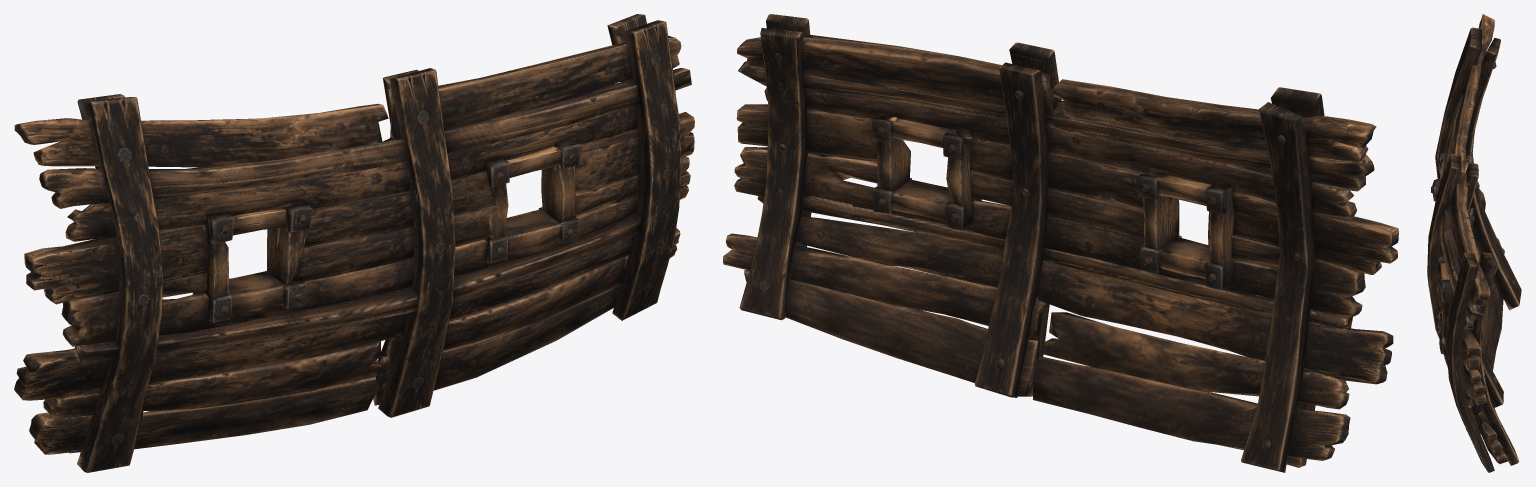
The model's file is hull-panel.glb.
3 views of the same model, side by side, from view 1: azimuth 30°, elevation 25°; view 2: azimuth 150°, elevation 25°; view 3: azimuth 270°, elevation 25° (orthographic). The views are drawn at different scales.
Parts seen in each view (by area): view 1: hull-panel-v2_LOD0; view 2: hull-panel-v2_LOD0; view 3: hull-panel-v2_LOD0.
Part boxes in pixels (left/top/right/bottom): hull-panel-v2_LOD0: left=14, top=14, right=694, bottom=472; hull-panel-v2_LOD0: left=723, top=14, right=1398, bottom=472; hull-panel-v2_LOD0: left=1427, top=14, right=1521, bottom=472.
Size of what is drawn, in the model's own units: 1 by 0.5511 by 0.1732.
Materials: 1 (1 with a texture image).
